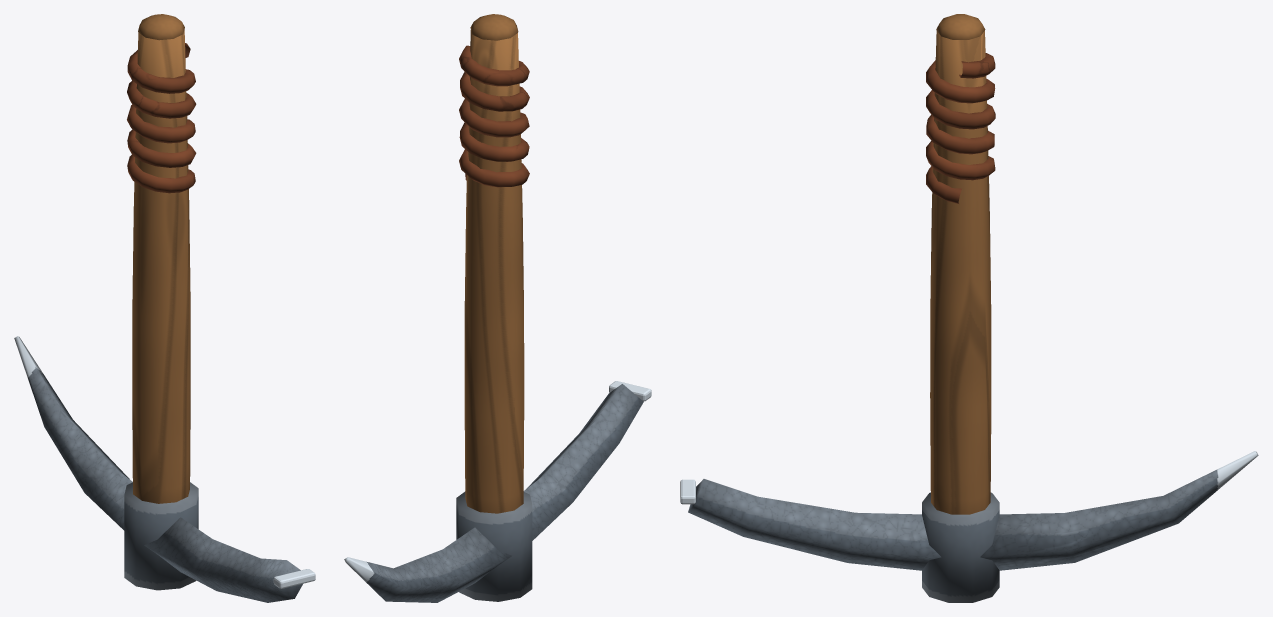
File: tool_iron_pickaxe.glb
3 views of the same model, side by side, from view 1: azimuth 30°, elevation 25°; view 2: azimuth 150°, elevation 25°; view 3: azimuth 270°, elevation 25° (orthographic). The views are drawn at different scales.
Visible parts, largest first — view 1: Tool; view 2: Tool; view 3: Tool.
Part boxes in pixels (x1,y1,x2,y2): Tool: (14, 14, 315, 602); Tool: (344, 14, 651, 602); Tool: (680, 14, 1258, 602).
Size of the model in its own units: 0.0951 by 0.8074 by 0.7424.
1 material, 1 textured.
